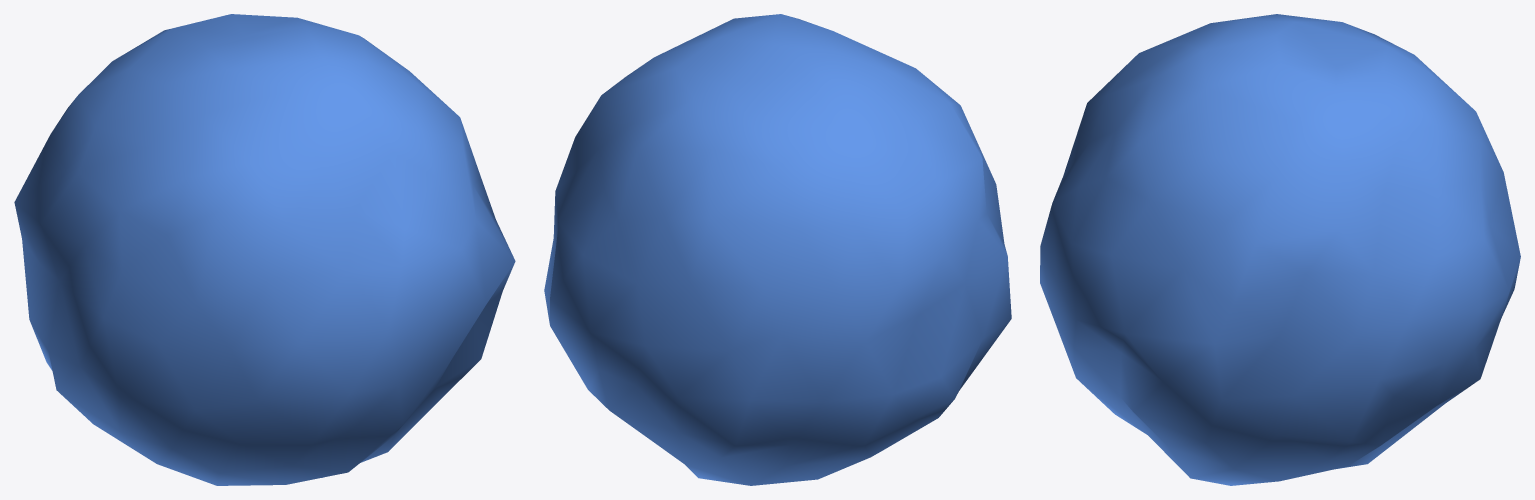
File: WaterBlob.fbx
The picture shows the model from 3 angles, left to right: view 1: azimuth 30°, elevation 25°; view 2: azimuth 150°, elevation 25°; view 3: azimuth 270°, elevation 25°; orthographic projection. The views are drawn at different scales.
Parts seen in each view (by area): view 1: Icosphere; view 2: Icosphere; view 3: Icosphere.
Part boxes in pixels (x1,y1,x2,y2): Icosphere: (14,14,515,485); Icosphere: (544,14,1011,485); Icosphere: (1040,14,1520,485).
Bounding box in the file's own units: 197 × 202 × 204.
